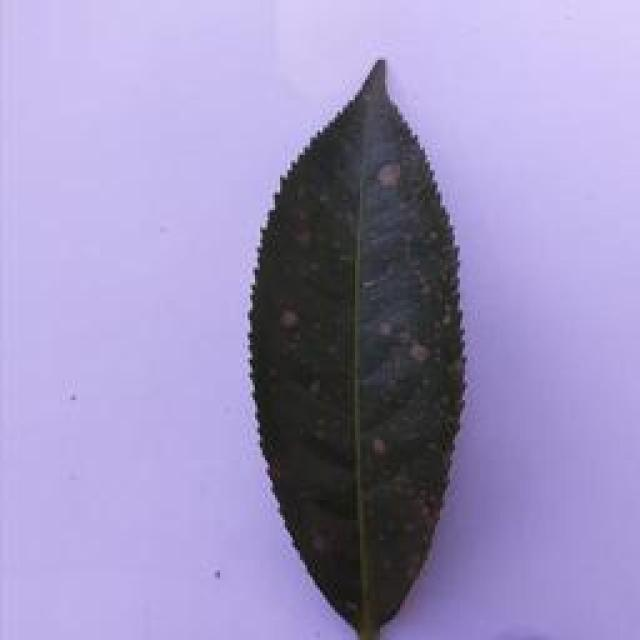Algal Leaf Spot: (247, 54, 462, 638)
